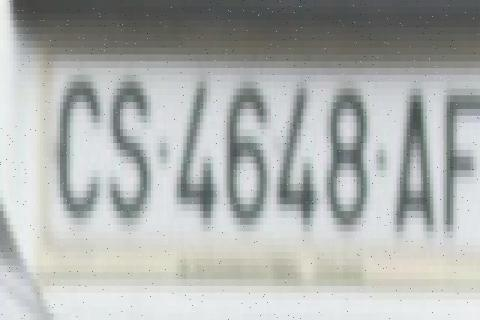LicensePlate: (37, 34, 478, 278)
